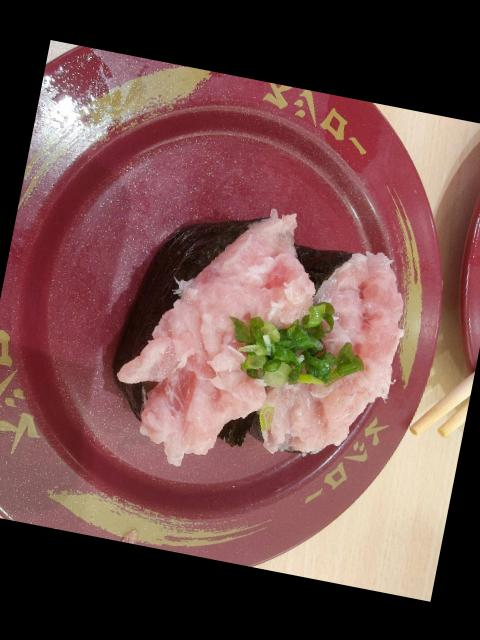janred: (0, 38, 471, 591), (427, 123, 480, 417)
